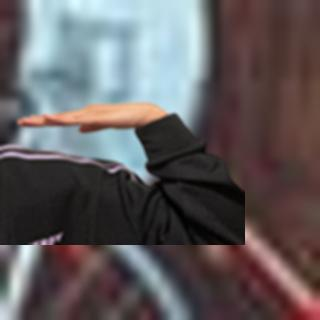Wait: (11, 95, 166, 140)
